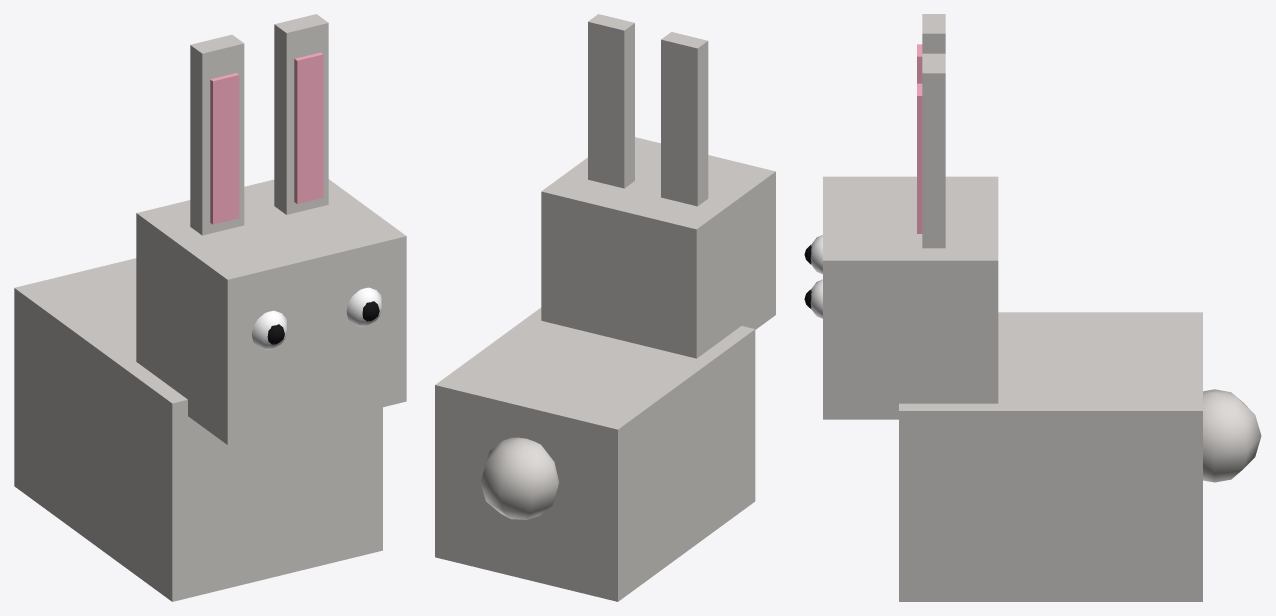
The model's file is pet_bunny.glb.
3 views of the same model, side by side, from view 1: azimuth 30°, elevation 25°; view 2: azimuth 150°, elevation 25°; view 3: azimuth 270°, elevation 25° (orthographic). The views are drawn at different scales.
Visible parts, largest first — view 1: head, pet_bunny; view 2: pet_bunny, head; view 3: pet_bunny, head.
Boxes of the visible parts, bbox=[...] form: head: bbox=[136, 14, 406, 444]; pet_bunny: bbox=[14, 258, 382, 601]; pet_bunny: bbox=[435, 307, 755, 601]; head: bbox=[541, 14, 775, 358]; pet_bunny: bbox=[899, 312, 1261, 601]; head: bbox=[804, 14, 998, 419].
Size of the model in its own units: 0.2 by 0.48 by 0.3907.
